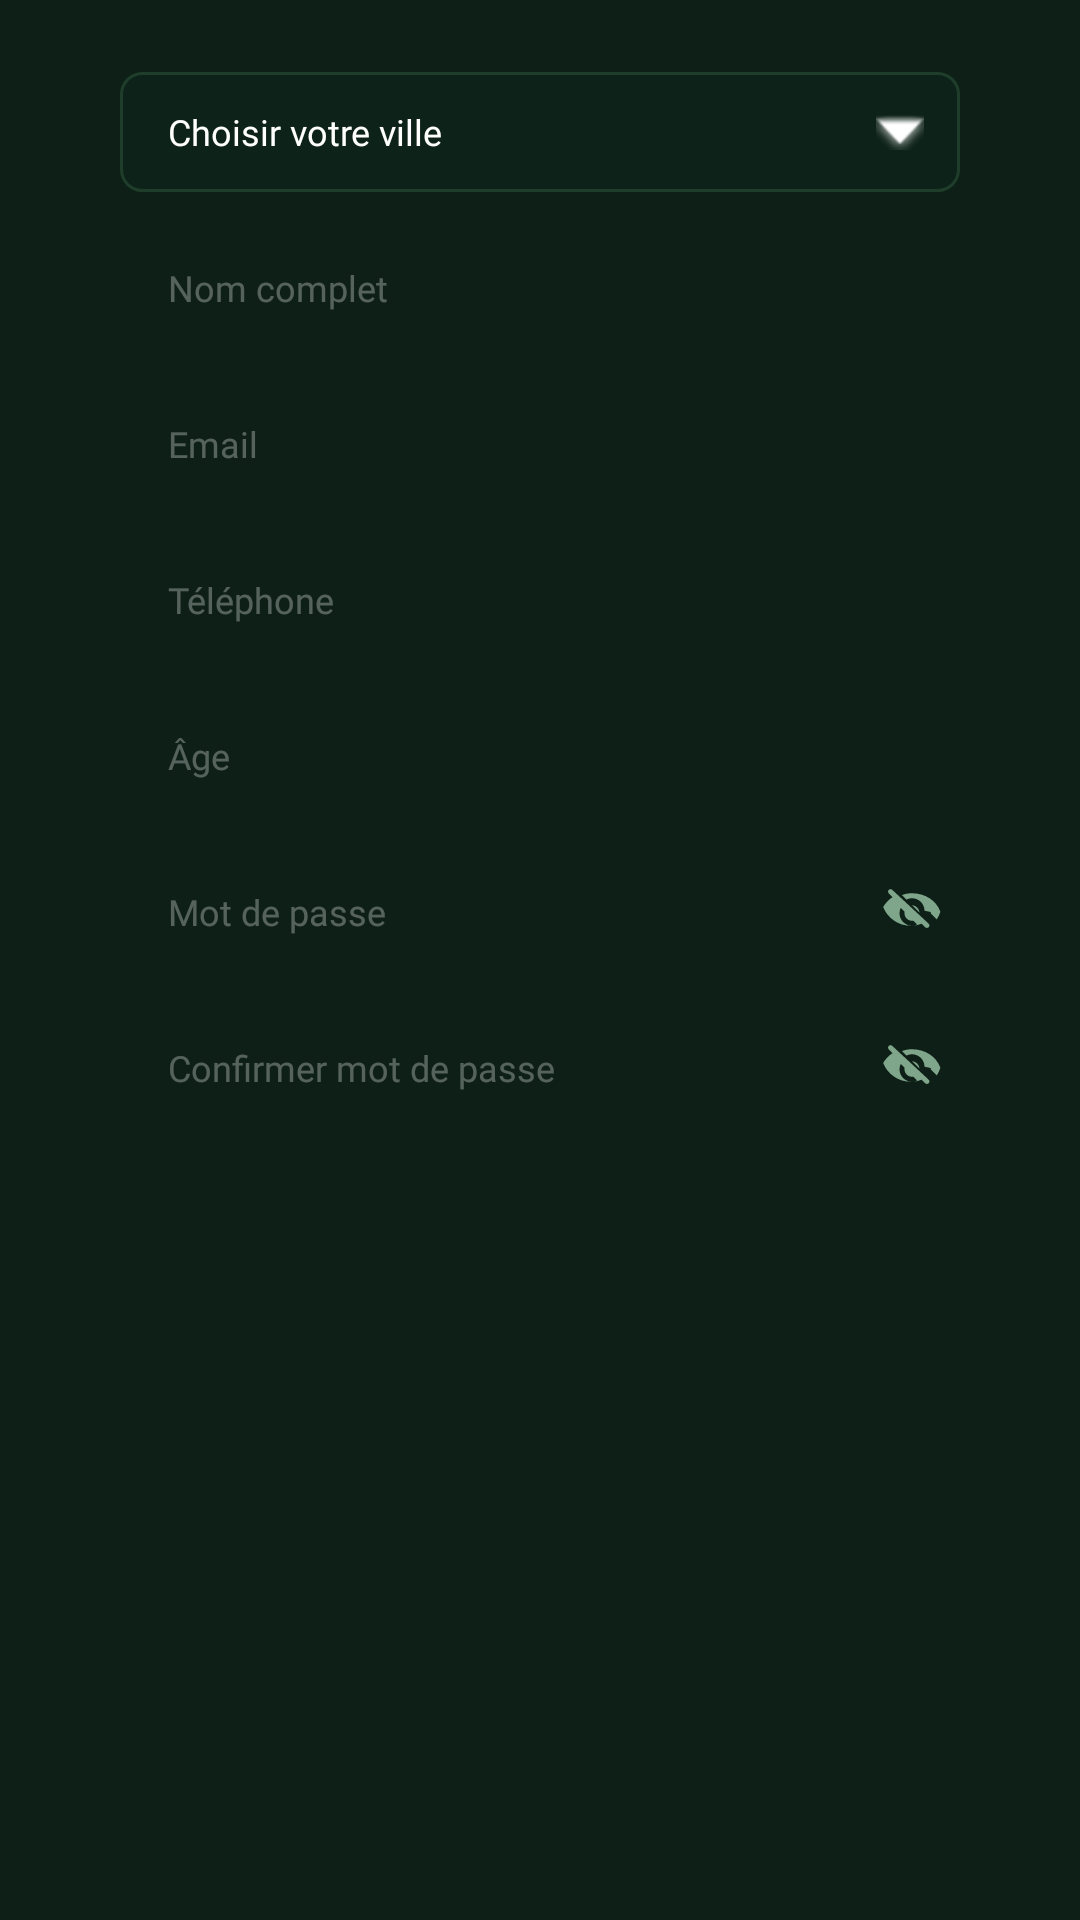

Point at icon controls on the screen. Image size 1080px×1920px, points as point (x, y).
arrow down float: point (900, 132)
eye closed: point (912, 908), point (912, 1064)
